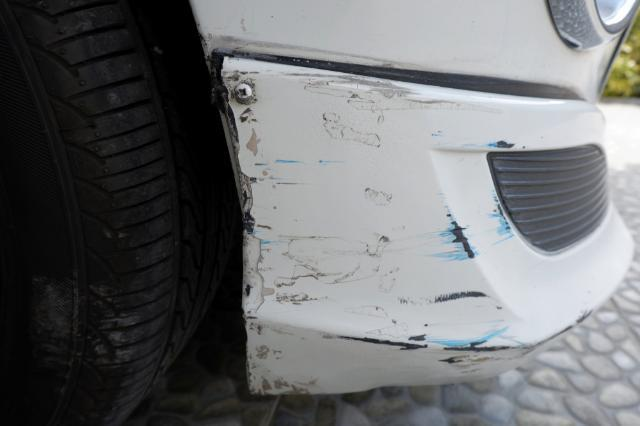scratch: (216, 58, 592, 395)
